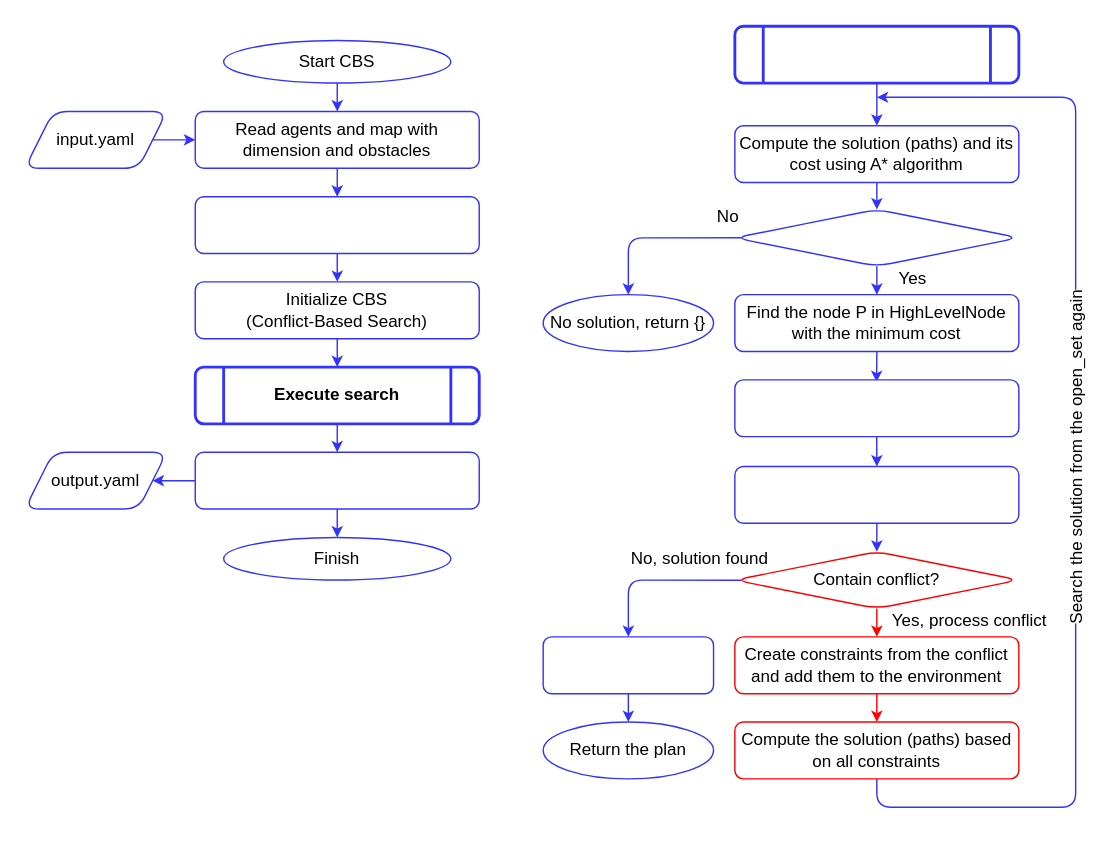
Some shapes in this 1110 by 842 pixel diagram are drawn without their labels. The shapes that lost their labels are listed below. From the top down, each one's centre as x and y in pixels, then its label:
(x=876, y=54): Execute search based on A* path finding algorithm
(x=336, y=224): Initialize environment based on the agents and map
(x=876, y=237): Contain open_set?
(x=876, y=407): Remove the node P from open_set and add to close_set
(x=336, y=480): Save the solution (plan) and cost
(x=876, y=494): Get the first conflict from the minimal-cost solution
(x=628, y=664): Generate the plan based on the solution
